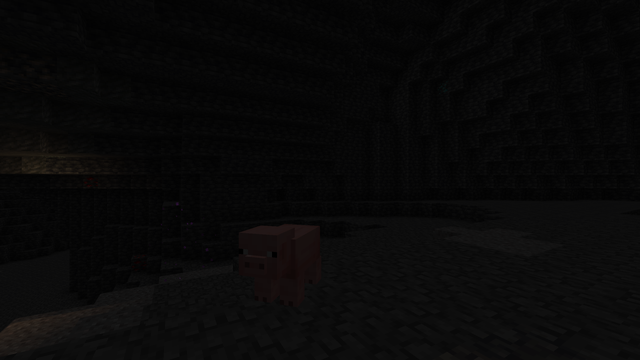cochons: (250, 222, 331, 311)
